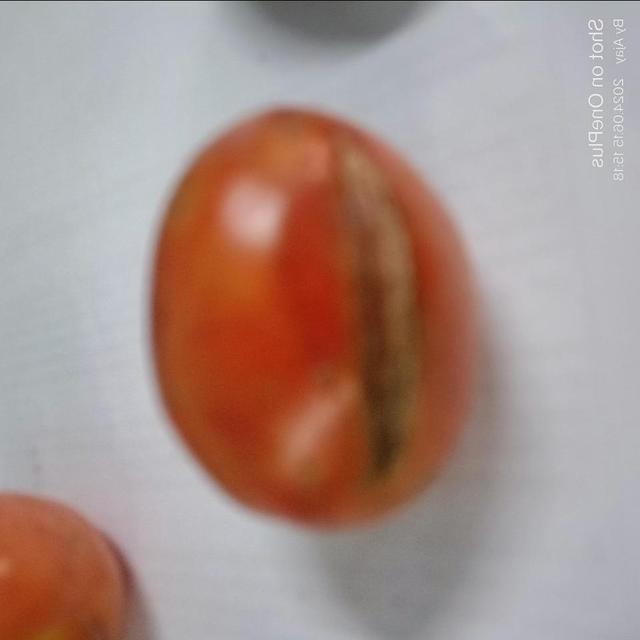Cracking Fruit: (144, 231, 415, 317)
